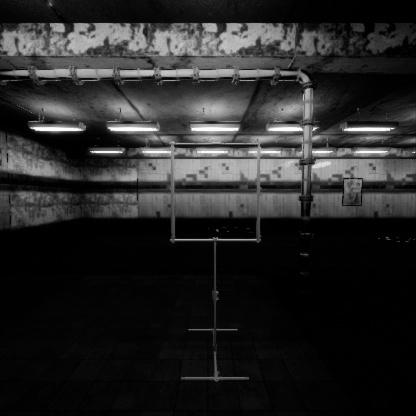gate: (170, 172, 269, 273)
